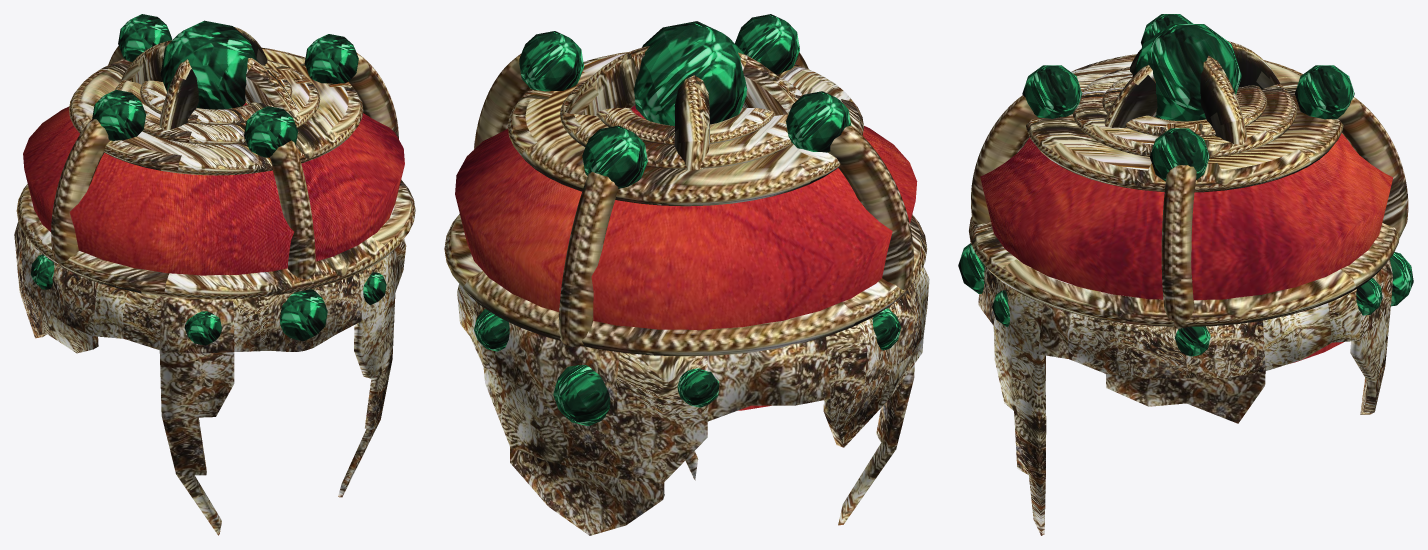
Rendered from Crown.fbx.
3 renders of one model, left to right at view 1: azimuth 30°, elevation 25°; view 2: azimuth 150°, elevation 25°; view 3: azimuth 270°, elevation 25°, orthographic. The views are drawn at different scales.
Parts seen in each view (by area): view 1: Cylinder, Iron_Crown, Torus.001, Torus, Icosphere, NurbsCurve, Torus.002, NurbsCurve.001, Torus.005, Icosphere.002, Torus.004, Torus.003 (+8 smaller); view 2: Cylinder, Iron_Crown, Torus.001, Torus, Icosphere, NurbsCurve.002, NurbsCurve, Torus.004, Torus.002, Icosphere.002, Icosphere.004, Icosphere.001 (+8 smaller); view 3: Cylinder, Iron_Crown, Torus.001, Torus, Icosphere, Torus.002, NurbsCurve.003, NurbsCurve.002, Torus.005, NurbsCurve.001, Torus.004, Icosphere.004 (+8 smaller).
Boxes of the visible parts, box(x1,y1,x2,y2) form: Cylinder: box(23, 103, 404, 275); Iron_Crown: box(14, 222, 406, 535); Torus.001: box(69, 47, 363, 175); Torus: box(16, 179, 415, 299); Icosphere: box(160, 20, 257, 109); NurbsCurve: box(51, 119, 110, 268); Torus.002: box(115, 59, 320, 144); NurbsCurve.001: box(270, 140, 315, 279); Torus.005: box(120, 40, 295, 111); Icosphere.002: box(304, 34, 358, 83); Torus.004: box(159, 27, 267, 130); Torus.003: box(140, 64, 292, 124); Cylinder: box(455, 105, 917, 410); Iron_Crown: box(457, 266, 929, 535); Torus.001: box(507, 51, 863, 206); Torus: box(444, 214, 927, 356); Icosphere: box(634, 21, 747, 125); NurbsCurve.002: box(558, 172, 618, 346); NurbsCurve: box(828, 125, 913, 298); Torus.004: box(565, 46, 797, 116); Torus.002: box(560, 76, 802, 168); Icosphere.002: box(519, 31, 584, 91); Icosphere.004: box(582, 125, 647, 188); Icosphere.001: box(786, 91, 851, 152); Cylinder: box(980, 133, 1393, 363); Iron_Crown: box(978, 259, 1392, 535); Torus.001: box(1026, 54, 1343, 192); Torus: box(969, 216, 1400, 326); Icosphere: box(1132, 24, 1241, 121); Torus.002: box(1072, 67, 1297, 158); NurbsCurve.003: box(1161, 165, 1196, 328); NurbsCurve.002: box(1337, 97, 1408, 237); Torus.005: box(1104, 41, 1280, 127); NurbsCurve.001: box(971, 95, 1037, 224); Torus.004: box(1130, 49, 1246, 144); Icosphere.004: box(1295, 65, 1354, 119).
Size of the model in its own units: 20.6 by 24.74 by 21.1.
